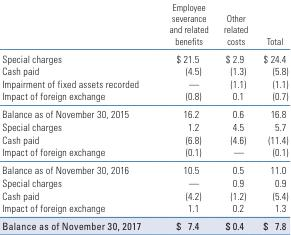table: (1, 0, 287, 231)
table column: (1, 0, 154, 231), (154, 0, 215, 231), (215, 0, 254, 231), (254, 0, 287, 231)
table column header: (1, 0, 287, 48)
table row: (1, 0, 287, 48), (1, 48, 287, 64), (1, 104, 287, 120), (1, 160, 287, 176), (1, 89, 287, 104), (1, 145, 287, 160), (1, 201, 287, 216), (1, 216, 287, 231), (1, 64, 287, 77), (1, 132, 287, 145), (1, 188, 287, 201), (1, 77, 287, 89), (1, 120, 287, 132), (1, 176, 287, 188)
